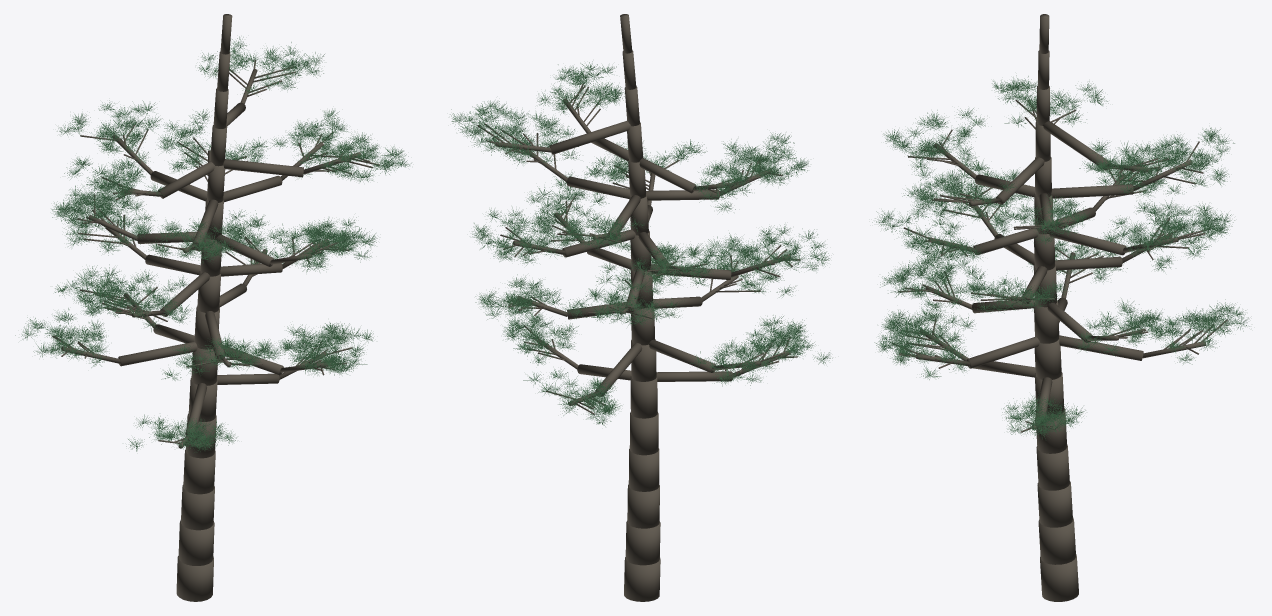
Rendered from Production_CoastalPine_1.glb.
The picture shows the model from 3 angles, left to right: view 1: azimuth 30°, elevation 25°; view 2: azimuth 150°, elevation 25°; view 3: azimuth 270°, elevation 25°; orthographic projection. The views are drawn at different scales.
Visible parts, largest first — view 1: Production_CoastalPine_1_Landscape_Needles, Production_CoastalPine_1_Landscape_PineBark; view 2: Production_CoastalPine_1_Landscape_Needles, Production_CoastalPine_1_Landscape_PineBark; view 3: Production_CoastalPine_1_Landscape_Needles, Production_CoastalPine_1_Landscape_PineBark.
Part boxes in pixels (bbox=[...]): Production_CoastalPine_1_Landscape_Needles: bbox=[15, 36, 411, 452]; Production_CoastalPine_1_Landscape_PineBark: bbox=[52, 14, 379, 601]; Production_CoastalPine_1_Landscape_Needles: bbox=[450, 61, 832, 426]; Production_CoastalPine_1_Landscape_PineBark: bbox=[477, 14, 800, 601]; Production_CoastalPine_1_Landscape_Needles: bbox=[872, 75, 1249, 439]; Production_CoastalPine_1_Landscape_PineBark: bbox=[892, 14, 1227, 601].
Size of the model in its own units: 7.33 by 12.03 by 7.18.
